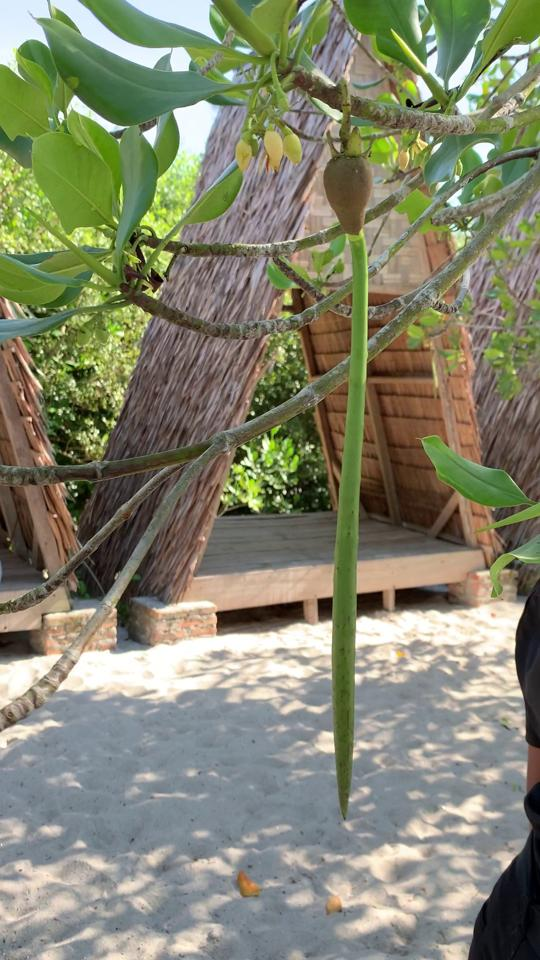setengah matang: (313, 121, 390, 834)
